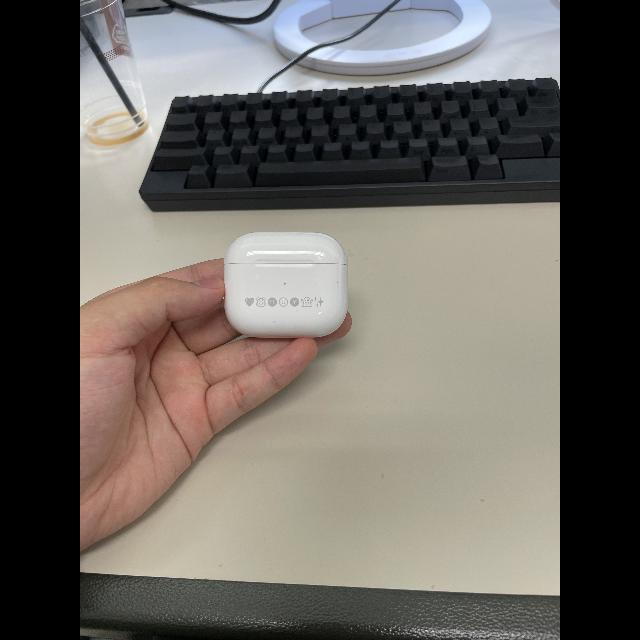airpod3: (212, 226, 354, 340)
